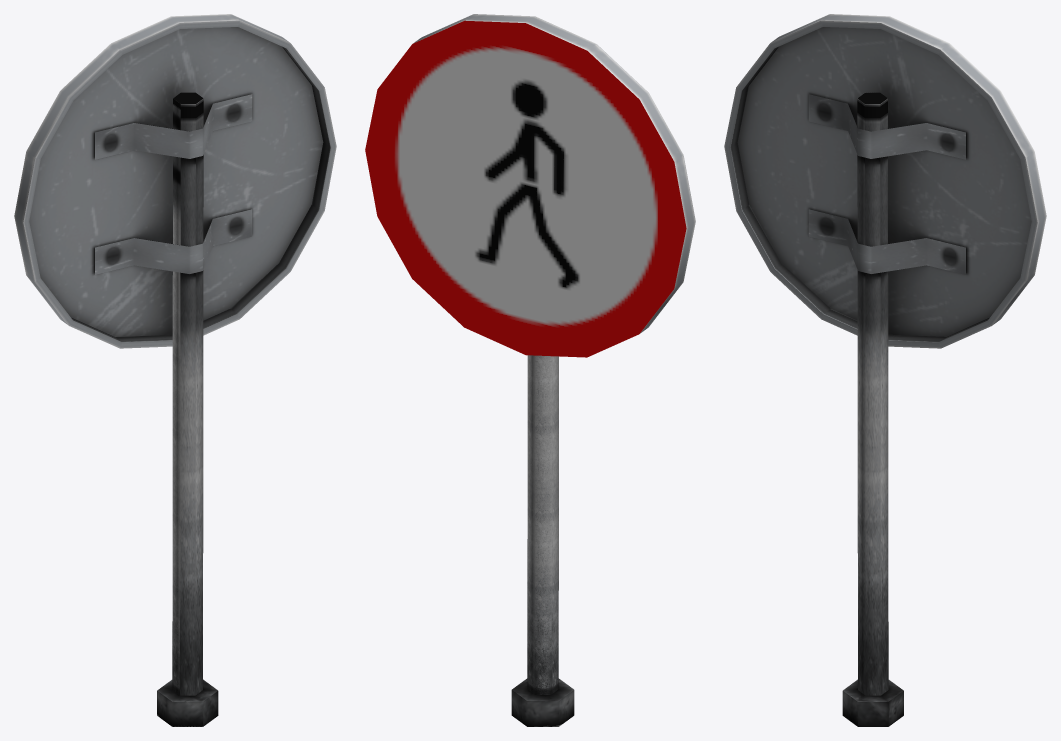
Rendered from TRF0310006.fbx.
3 renders of one model, left to right at view 1: azimuth 30°, elevation 25°; view 2: azimuth 150°, elevation 25°; view 3: azimuth 330°, elevation 25°, orthographic. The views are drawn at different scales.
Parts seen in each view (by area): view 1: smTRF0310006; view 2: smTRF0310006; view 3: smTRF0310006.
Part boxes in pixels (box(x1,y1,x2,y2)): smTRF0310006: box(14, 14, 336, 726); smTRF0310006: box(365, 14, 695, 726); smTRF0310006: box(724, 14, 1046, 726).
Bounding box in the file's own units: 72.09 × 151 × 12.83.
1 material, 1 textured.
